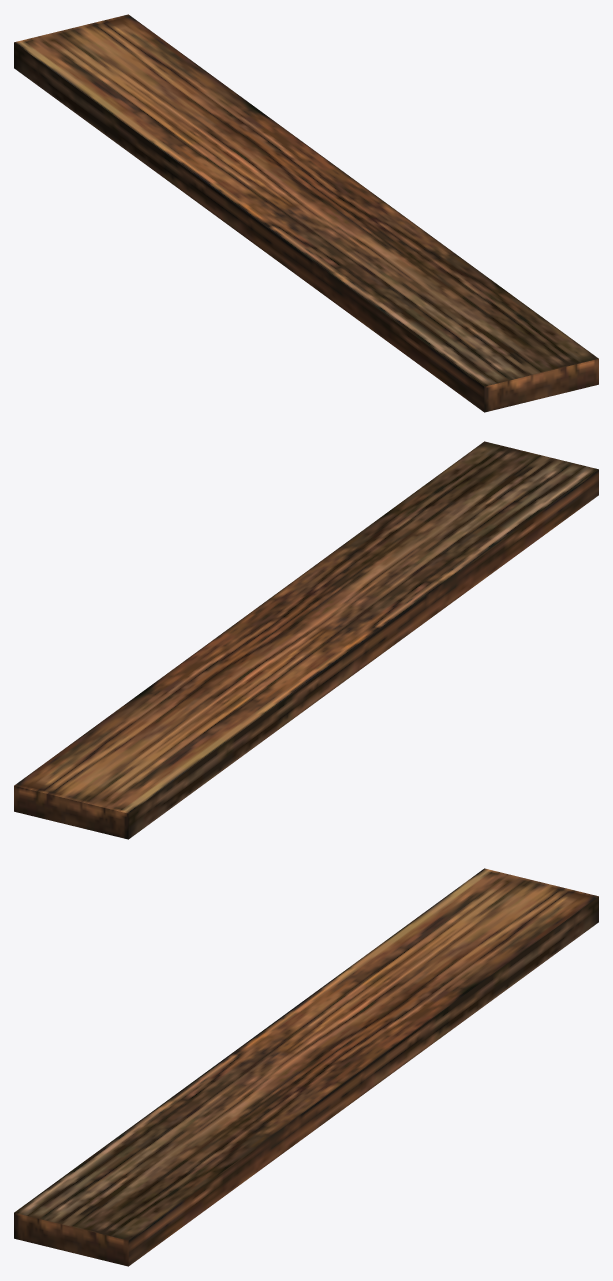
The model's file is INST_WH_PLANK_01.fbx.
3 renders of one model, top to bottom at view 1: azimuth 30°, elevation 25°; view 2: azimuth 150°, elevation 25°; view 3: azimuth 330°, elevation 25°, orthographic.
Parts seen in each view (by area): view 1: INST_WH_PLANK_01; view 2: INST_WH_PLANK_01; view 3: INST_WH_PLANK_01.
Boxes of the visible parts, x1,y1,x2,y2 form: INST_WH_PLANK_01: (14,14,598,412); INST_WH_PLANK_01: (14,441,598,839); INST_WH_PLANK_01: (14,868,598,1266).
Size of the model in its own units: 5693 by 1230 by 40497.
Materials: 1 (1 with a texture image).
